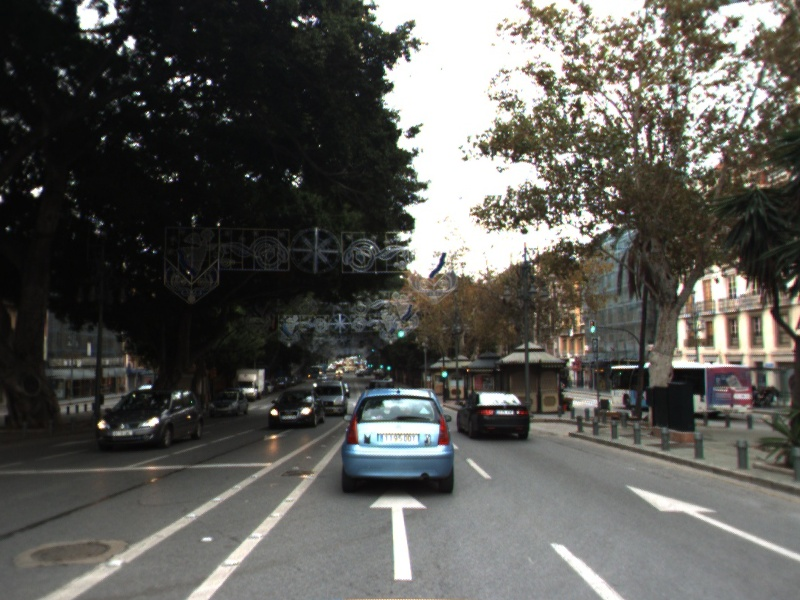STRAIGHT: (623, 483, 800, 562), (367, 486, 431, 582)
